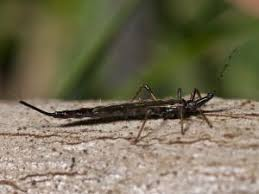Phlaeothripidae: (22, 50, 239, 144)
